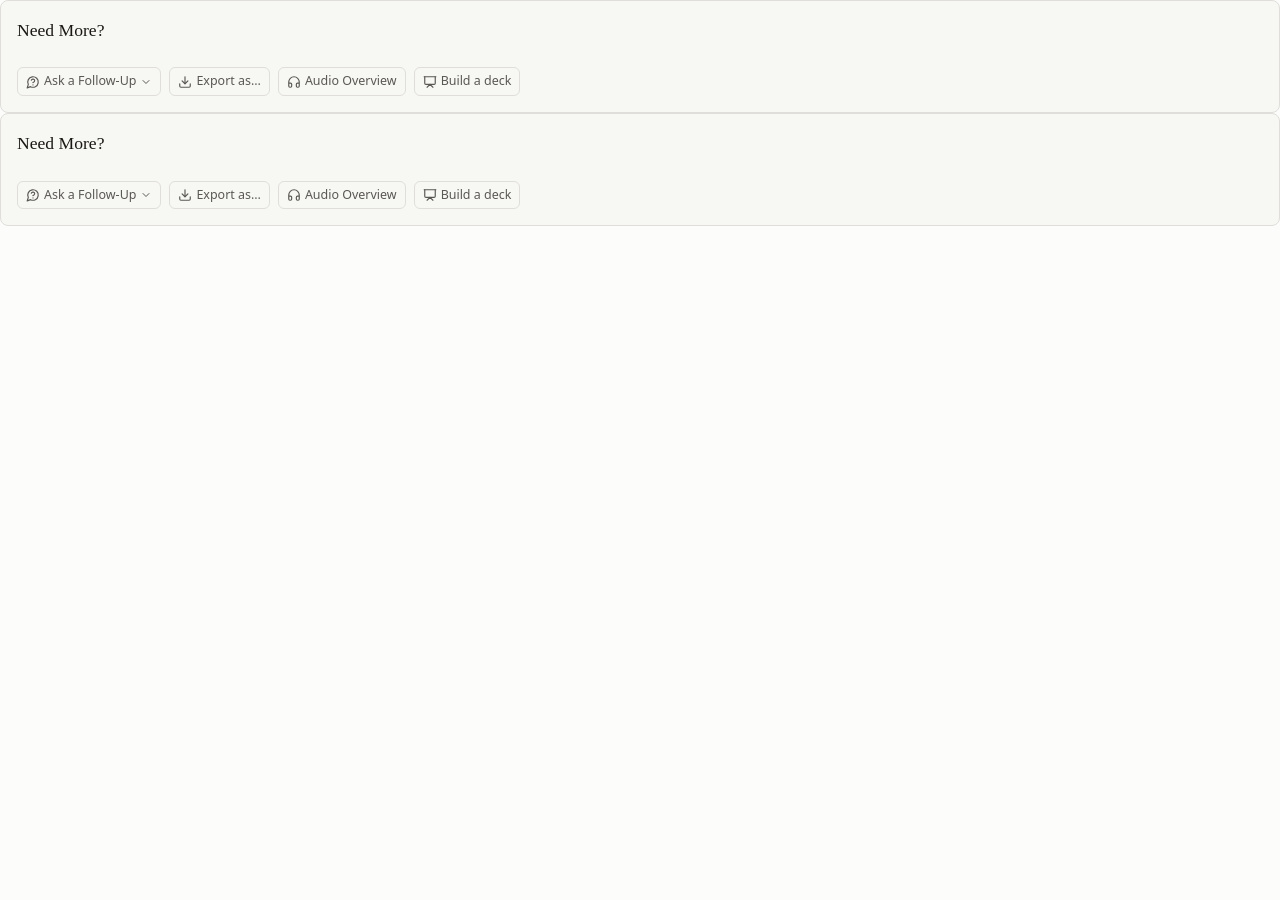
AuxDialogFocus › F3: audio selector Skip -> mode Close returns focus to the activated card opener (two-card isolation)
Click the 2nd button "Audio Overview": [342, 195] box [278, 180, 406, 209]
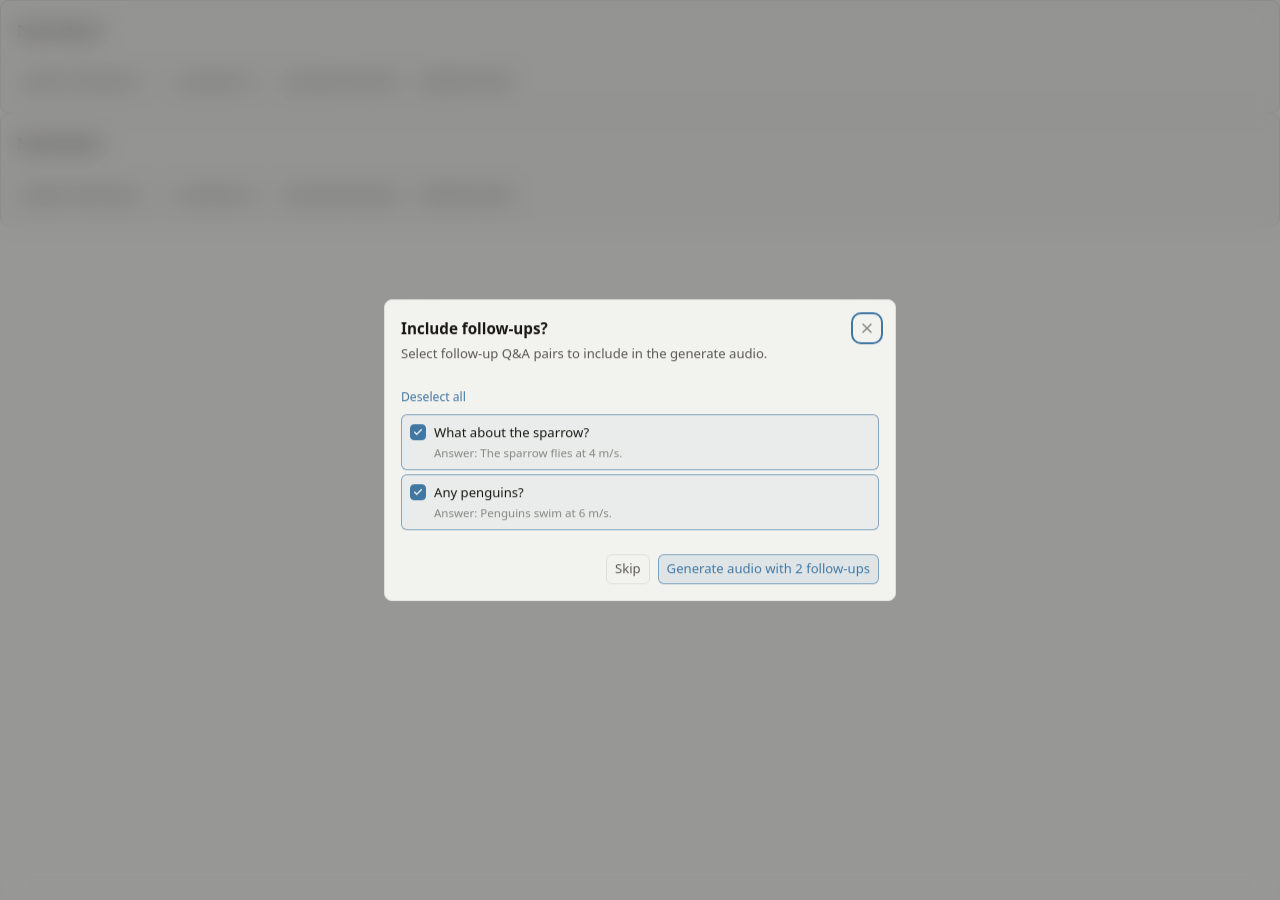
Click the button "Skip": [628, 569] box [606, 554, 650, 584]
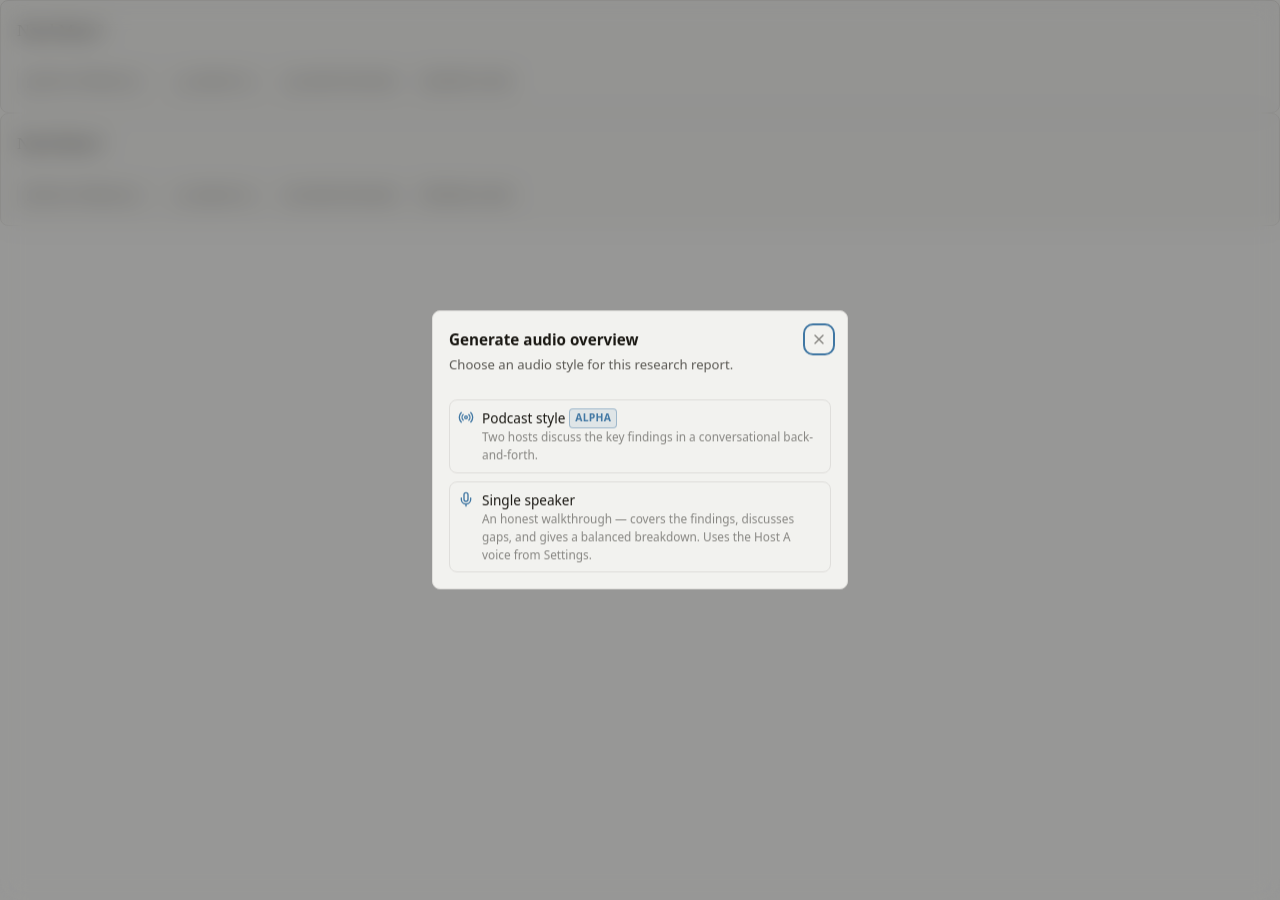
Result: the heading "Include follow-ups?" is gone
Click the button named "Close audio mode dialog": [819, 339] box [807, 327, 831, 351]
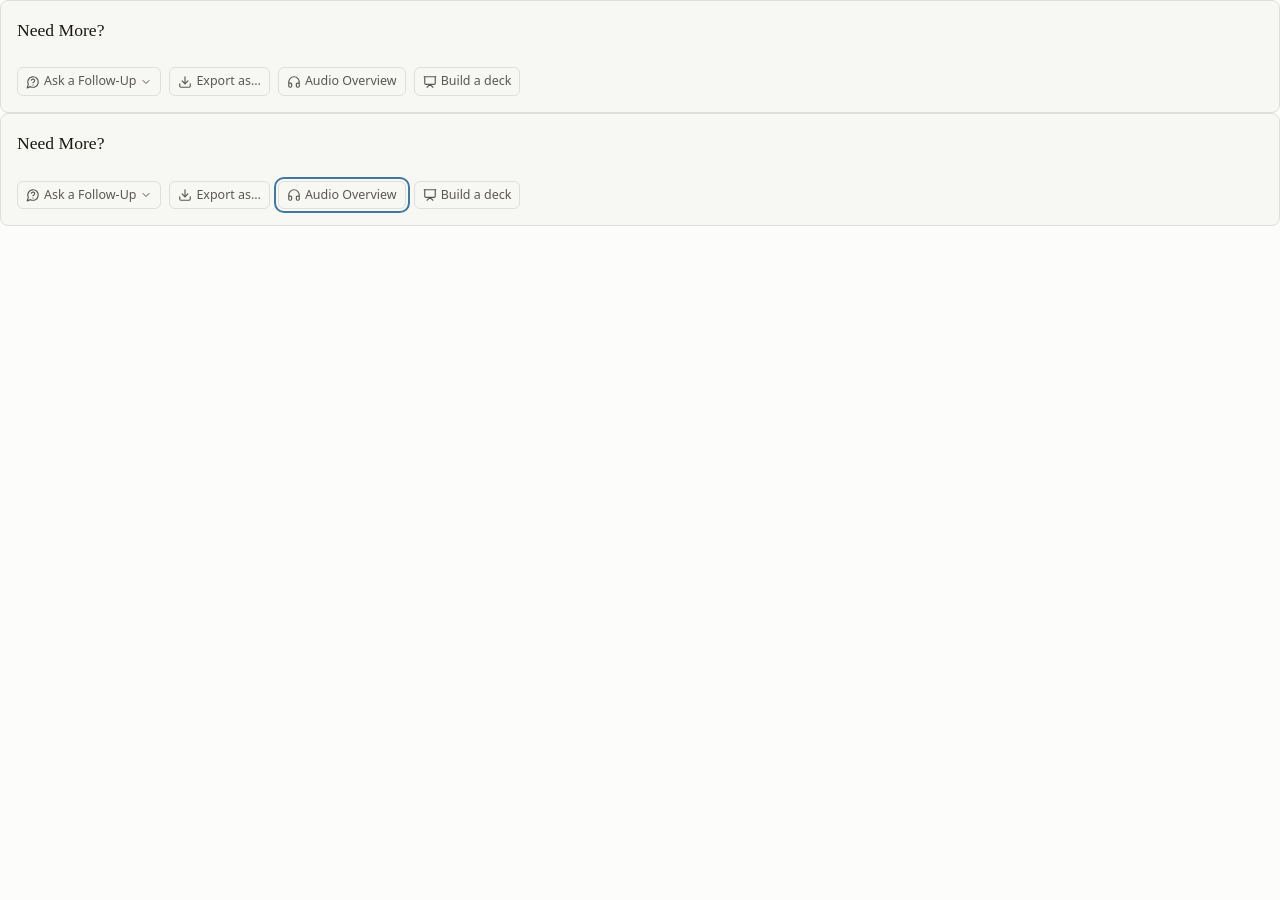
Result: the dialog is gone
